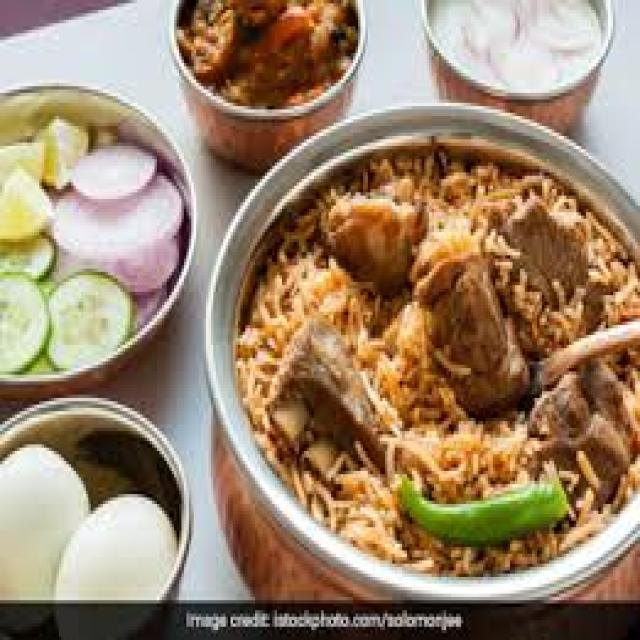Wet Waste: (244, 142, 639, 570), (179, 6, 365, 110)
